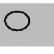no answer: (2, 8, 32, 33)
